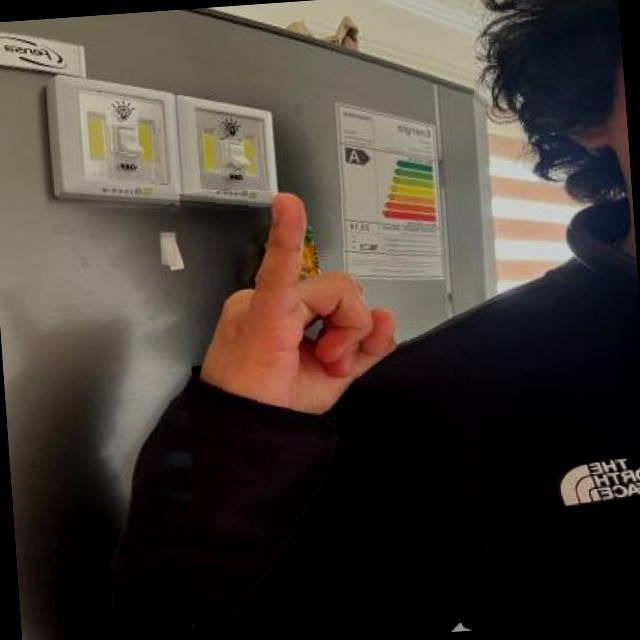I: (178, 178, 416, 440)
